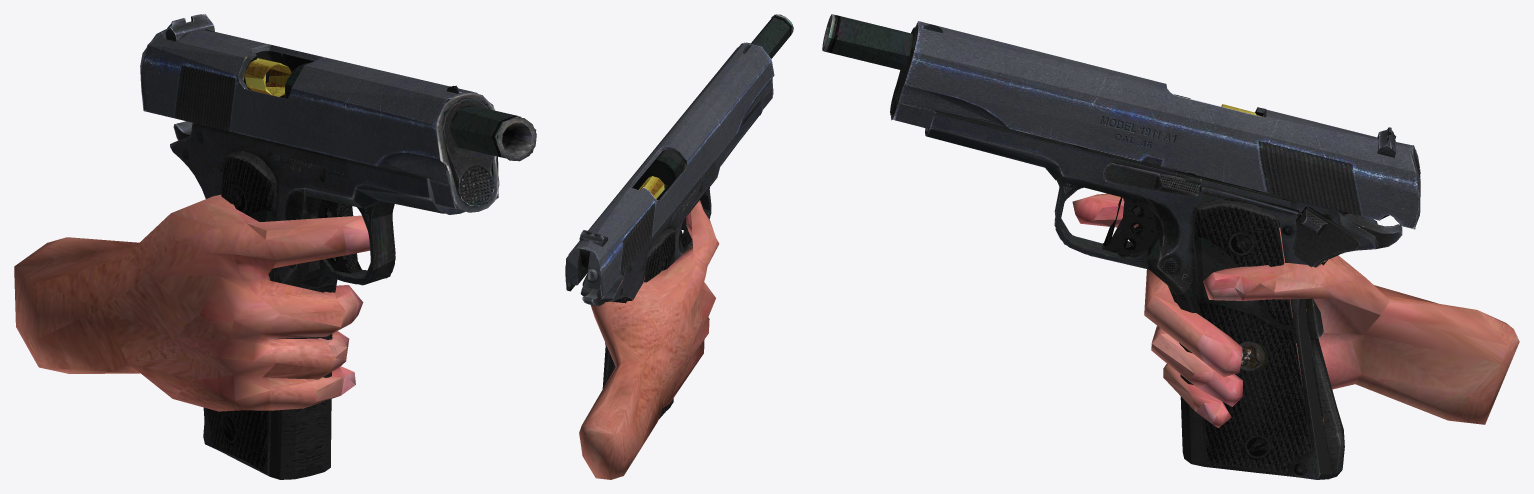
Rendered from Gun_000005.obj.
3 views of the same model, side by side, from view 1: azimuth 30°, elevation 25°; view 2: azimuth 150°, elevation 25°; view 3: azimuth 270°, elevation 25° (orthographic). The views are drawn at different scales.
Visible parts, largest first — view 1: ZBrushPolyMesh3D, Slide, Mesh_0008, BulletShell, Trigger; view 2: ZBrushPolyMesh3D, Slide, Mesh_0008, BulletShell; view 3: Mesh_0008, Slide, ZBrushPolyMesh3D, Trigger.
Boxes of the visible parts, box(x1,y1,x2,y2) form: ZBrushPolyMesh3D: box(14, 194, 369, 411); Slide: box(140, 14, 499, 212); Mesh_0008: box(170, 62, 536, 479); BulletShell: box(243, 56, 291, 96); Trigger: box(317, 193, 361, 273); ZBrushPolyMesh3D: box(579, 200, 719, 479); Slide: box(565, 42, 774, 298); Mesh_0008: box(580, 14, 793, 419); BulletShell: box(638, 176, 664, 199); Mesh_0008: box(822, 14, 1402, 479); Slide: box(890, 21, 1420, 229); ZBrushPolyMesh3D: box(1072, 193, 1519, 427); Trigger: box(1102, 197, 1157, 257).
Bounding box in the file's own units: 0.8847 × 2.28 × 3.15.
